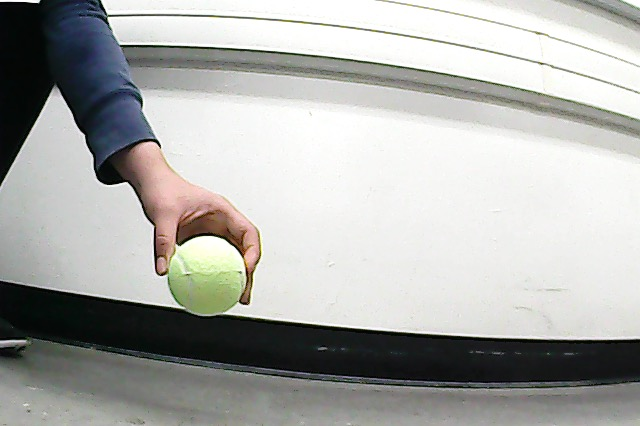ball: (167, 232, 249, 318)
